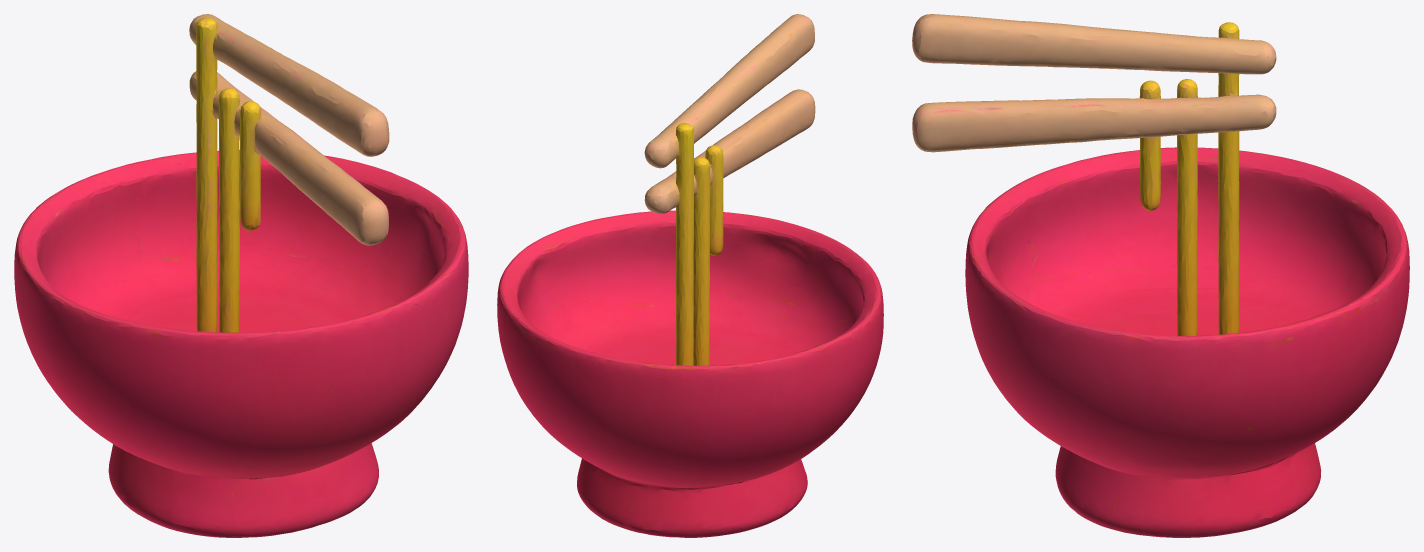
The model's file is noodles.glb.
3 renders of one model, left to right at view 1: azimuth 30°, elevation 25°; view 2: azimuth 150°, elevation 25°; view 3: azimuth 270°, elevation 25°, orthographic. The views are drawn at different scales.
Parts seen in each view (by area): view 1: Mesh; view 2: Mesh; view 3: Mesh.
Part boxes in pixels (left/top/right/bottom): Mesh: left=14, top=14, right=468, bottom=537; Mesh: left=497, top=14, right=883, bottom=537; Mesh: left=912, top=14, right=1409, bottom=537.
Size of the model in its own units: 0.8826 by 1 by 0.9579.
Materials: 1 (1 with a texture image).
